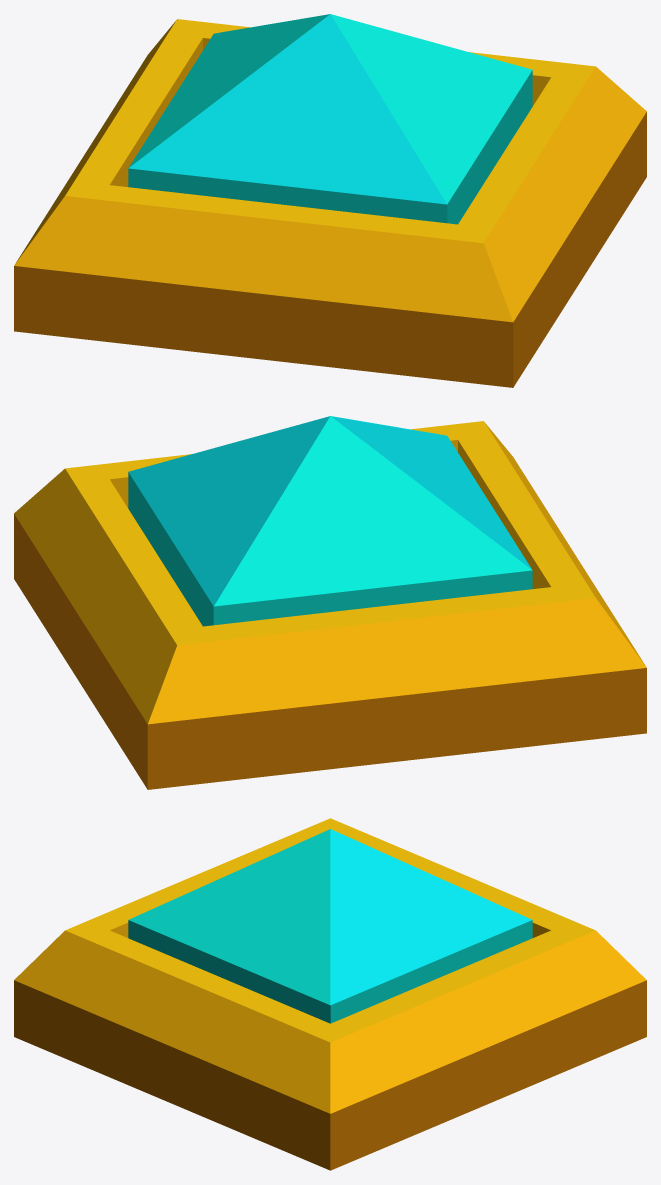
Rendered from Teal_Fantasy_Button.glb.
3 views of the same model, one above another, from view 1: azimuth 30°, elevation 25°; view 2: azimuth 150°, elevation 25°; view 3: azimuth 270°, elevation 25° (orthographic). The views are drawn at different scales.
Visible parts, largest first — view 1: Base_ButtonFantasy_03, ButtonFantasy_03; view 2: Base_ButtonFantasy_03, ButtonFantasy_03; view 3: Base_ButtonFantasy_03, ButtonFantasy_03.
Part boxes in pixels (x1=…): Base_ButtonFantasy_03: x1=14, y1=19, x2=646, y2=387; ButtonFantasy_03: x1=128, y1=14, x2=532, y2=224; Base_ButtonFantasy_03: x1=14, y1=421, x2=646, y2=789; ButtonFantasy_03: x1=128, y1=416, x2=532, y2=626; Base_ButtonFantasy_03: x1=14, y1=818, x2=646, y2=1170; ButtonFantasy_03: x1=128, y1=829, x2=532, y2=1023.
Size of what is drawn, in the model's own units: 0.4539 by 0.1646 by 0.4539.
Materials: 1 (1 with a texture image).
